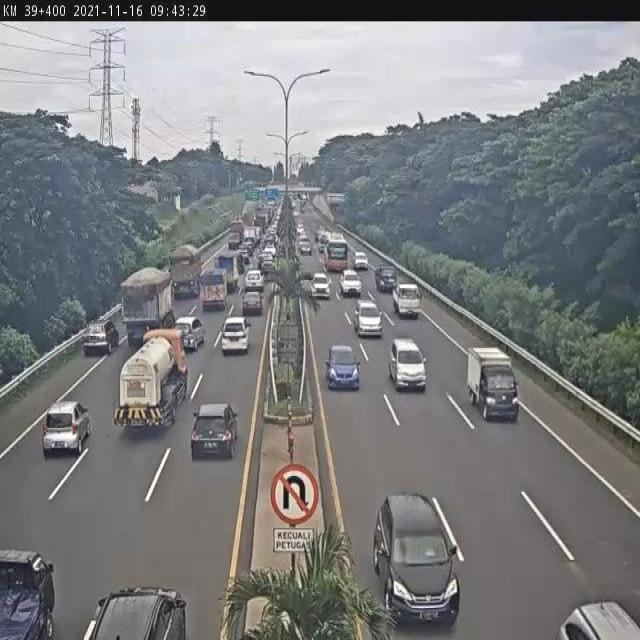Bus: (316, 230, 354, 277)
Car: (359, 483, 468, 640), (84, 558, 197, 640), (560, 587, 640, 640), (185, 401, 243, 471), (38, 398, 90, 464), (76, 313, 118, 377), (321, 338, 363, 397), (390, 333, 426, 389), (216, 313, 253, 353), (175, 310, 208, 352), (352, 302, 384, 339), (308, 270, 333, 310), (338, 270, 362, 302), (375, 261, 398, 293), (240, 296, 265, 319), (237, 267, 266, 286), (296, 233, 316, 257), (354, 243, 367, 266)
Truck: (101, 313, 192, 436), (121, 250, 176, 352), (466, 334, 521, 431), (168, 229, 208, 302), (389, 276, 429, 326), (196, 266, 230, 308), (213, 246, 242, 295)
